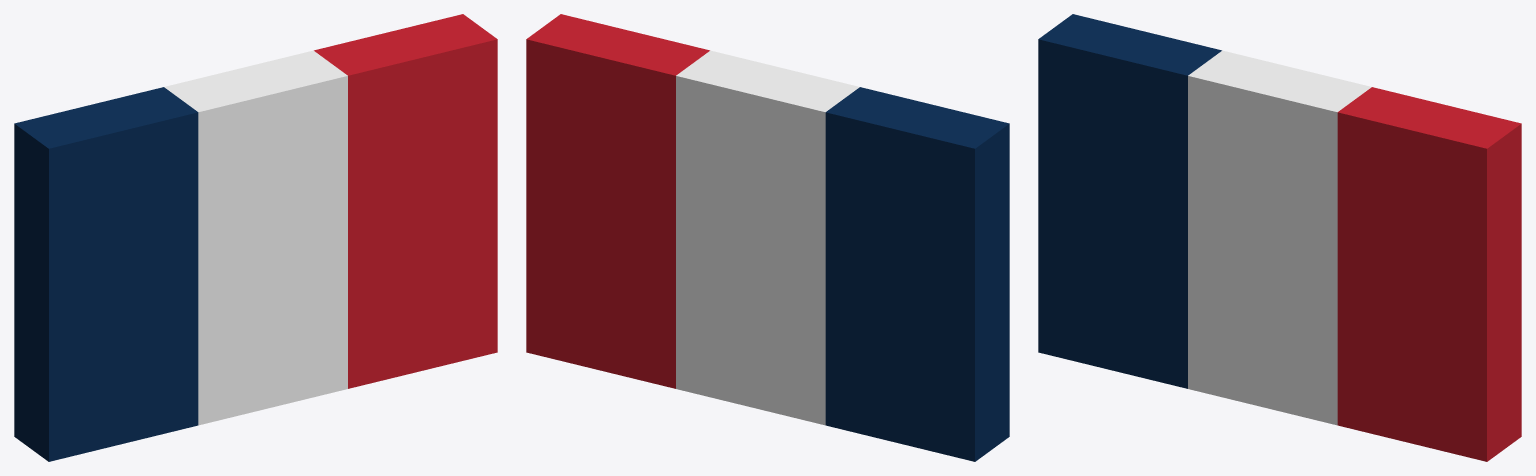
The model's file is FlagFrance.glb.
3 renders of one model, left to right at view 1: azimuth 30°, elevation 25°; view 2: azimuth 150°, elevation 25°; view 3: azimuth 330°, elevation 25°, orthographic.
Visible parts, largest first — view 1: FlagFrance; view 2: FlagFrance; view 3: FlagFrance.
Part boxes in pixels (x1,y1,x2,y2): FlagFrance: (14,14,497,461); FlagFrance: (526,14,1009,461); FlagFrance: (1038,14,1521,461).
Bounding box in the file's own units: 3 × 2 × 0.4.
